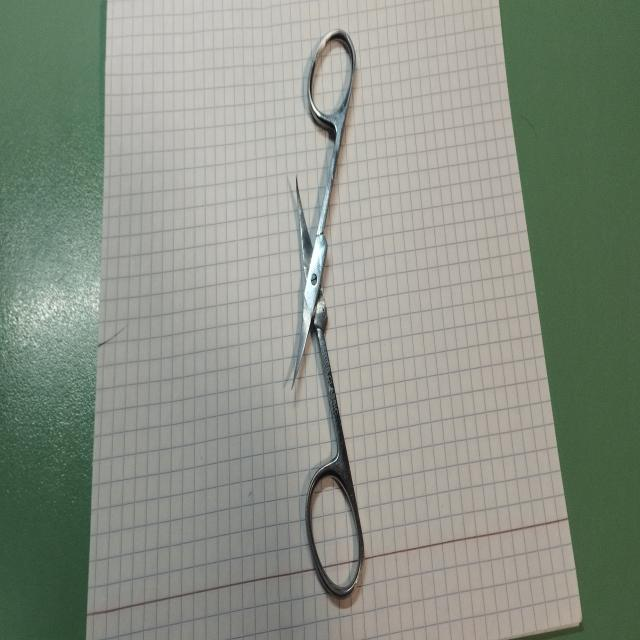tesoura: (286, 18, 368, 602)
